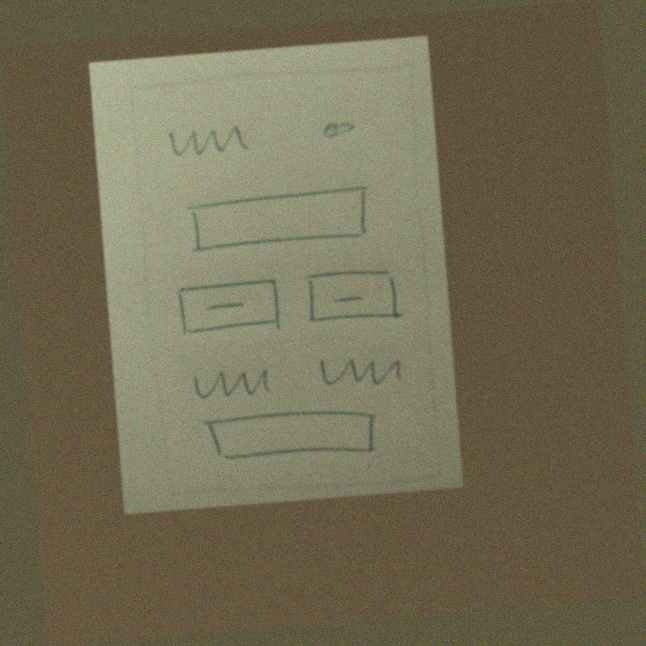button: (296, 257, 409, 332), (170, 272, 291, 341)
switch: (315, 107, 360, 151)
text: (308, 340, 408, 401), (181, 354, 279, 410), (157, 117, 255, 165)
text_input: (180, 177, 375, 260), (192, 401, 386, 474)
